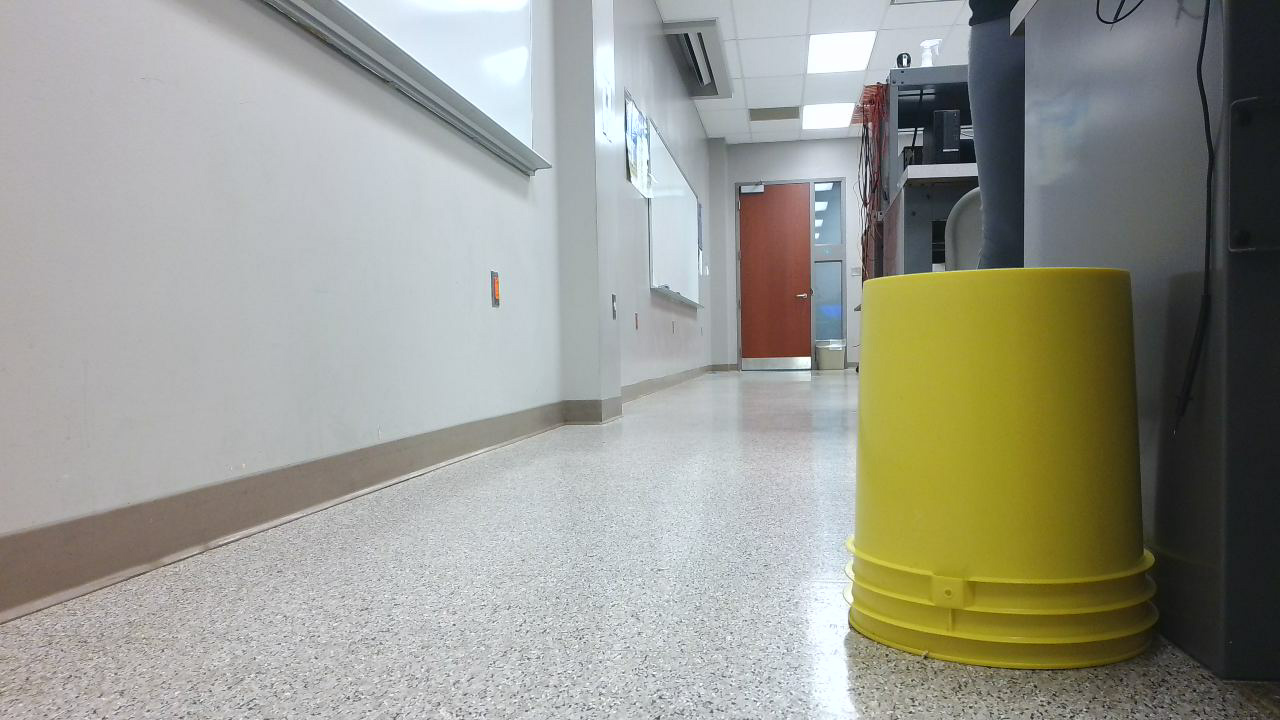yellow_bucket: (844, 268, 1173, 681)
